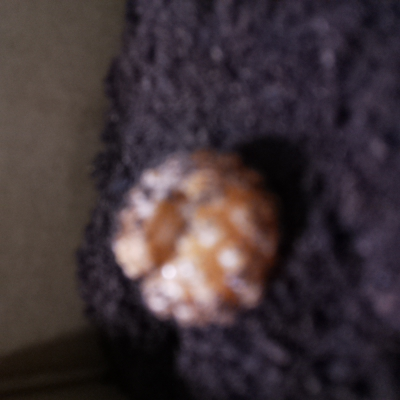eggs: (105, 143, 287, 332)
